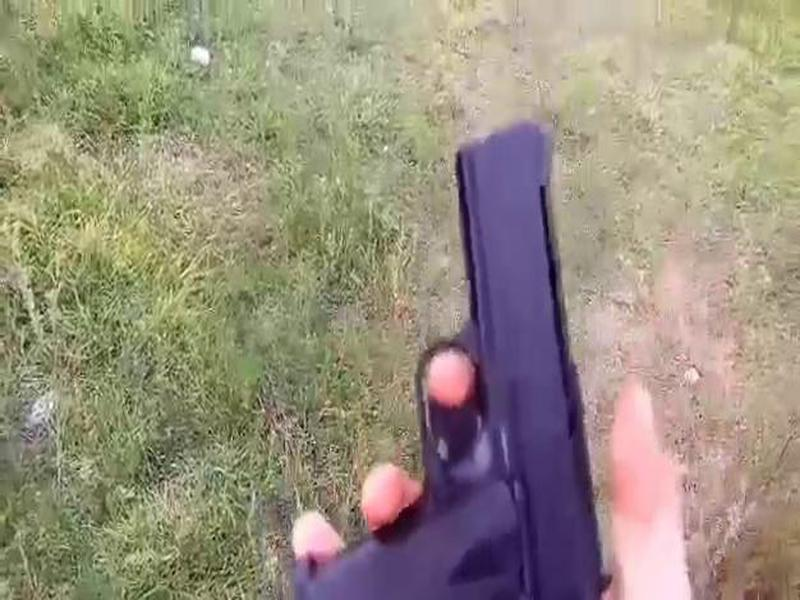Pistola: (299, 121, 615, 600)
